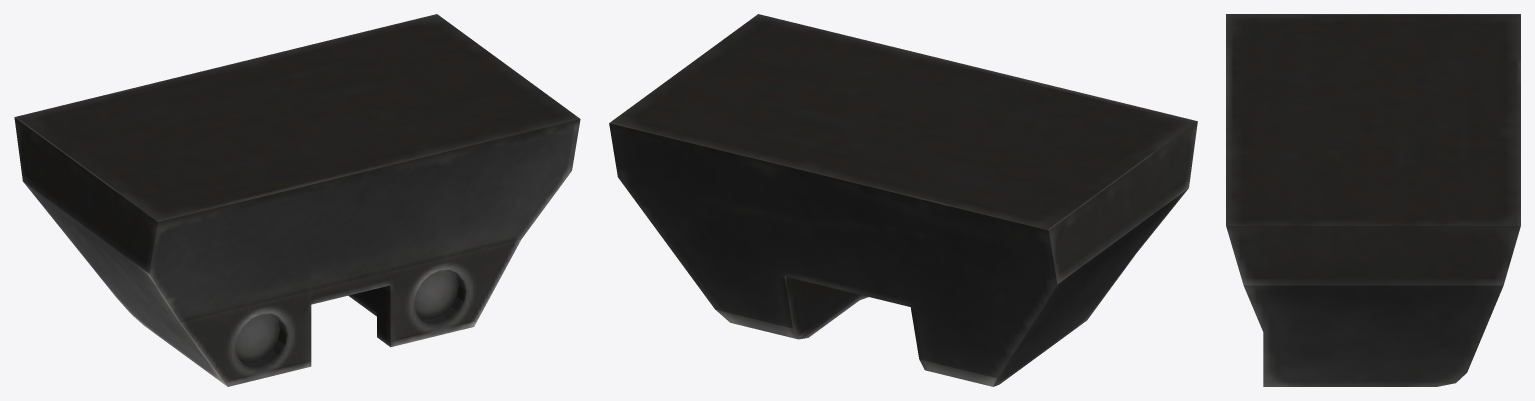
The picture shows the model from 3 angles, left to right: view 1: azimuth 30°, elevation 25°; view 2: azimuth 150°, elevation 25°; view 3: azimuth 270°, elevation 25°; orthographic projection. The views are drawn at different scales.
Visible parts, largest first — view 1: TW_6194f2912d2c397d6600348d_PZ_Import; view 2: TW_6194f2912d2c397d6600348d_PZ_Import; view 3: TW_6194f2912d2c397d6600348d_PZ_Import.
Part boxes in pixels (box(x1,y1,x2,y2)): TW_6194f2912d2c397d6600348d_PZ_Import: box(14, 14, 580, 386); TW_6194f2912d2c397d6600348d_PZ_Import: box(609, 14, 1197, 386); TW_6194f2912d2c397d6600348d_PZ_Import: box(1226, 14, 1520, 386).
Size of the model in its own units: 0.0109 by 0.00638 by 0.0049.
Materials: 1 (1 with a texture image).
